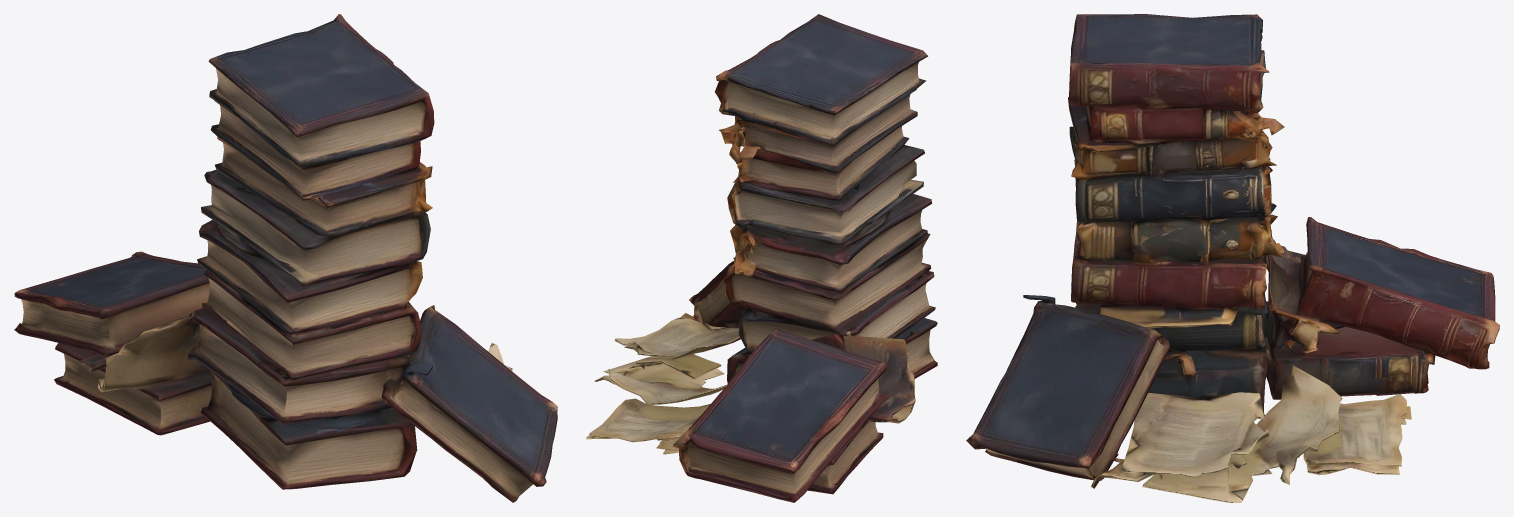
Rendered from arch_stack.glb.
The picture shows the model from 3 angles, left to right: view 1: azimuth 30°, elevation 25°; view 2: azimuth 150°, elevation 25°; view 3: azimuth 270°, elevation 25°; orthographic projection. The views are drawn at different scales.
Visible parts, largest first — view 1: tripo_node_d4f266fb-3f15-476a-abc4-81cba9035069; view 2: tripo_node_d4f266fb-3f15-476a-abc4-81cba9035069; view 3: tripo_node_d4f266fb-3f15-476a-abc4-81cba9035069.
Boxes of the visible parts, left/top/right/bottom form: tripo_node_d4f266fb-3f15-476a-abc4-81cba9035069: left=14, top=14, right=557, bottom=502; tripo_node_d4f266fb-3f15-476a-abc4-81cba9035069: left=586, top=14, right=937, bottom=502; tripo_node_d4f266fb-3f15-476a-abc4-81cba9035069: left=966, top=14, right=1499, bottom=502.
Size of the model in its own units: 0.7912 by 0.7795 by 1.
Materials: 1 (1 with a texture image).
